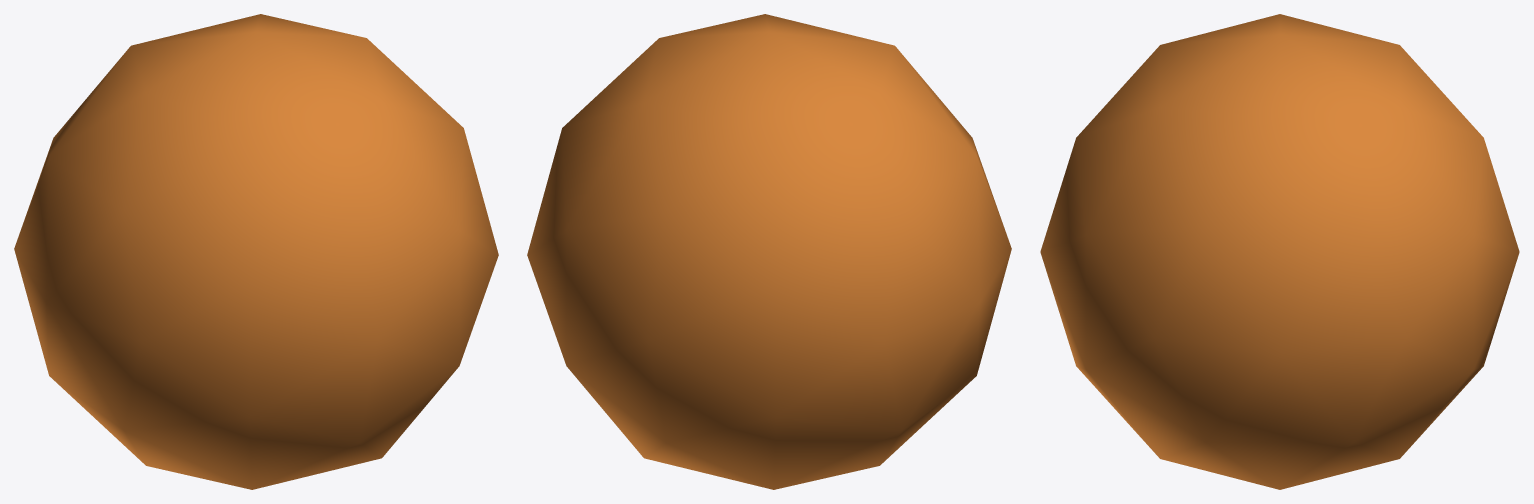
Rendered from product-oranges.glb.
The picture shows the model from 3 angles, left to right: view 1: azimuth 30°, elevation 25°; view 2: azimuth 150°, elevation 25°; view 3: azimuth 270°, elevation 25°; orthographic projection.
Visible parts, largest first — view 1: n3; view 2: n3; view 3: n3.
Part boxes in pixels (box(x1,y1,x2,y2)): n3: box(14, 14, 498, 489); n3: box(527, 14, 1011, 489); n3: box(1040, 14, 1519, 489).
Bounding box in the file's own units: 0.18 × 0.18 × 0.18.
